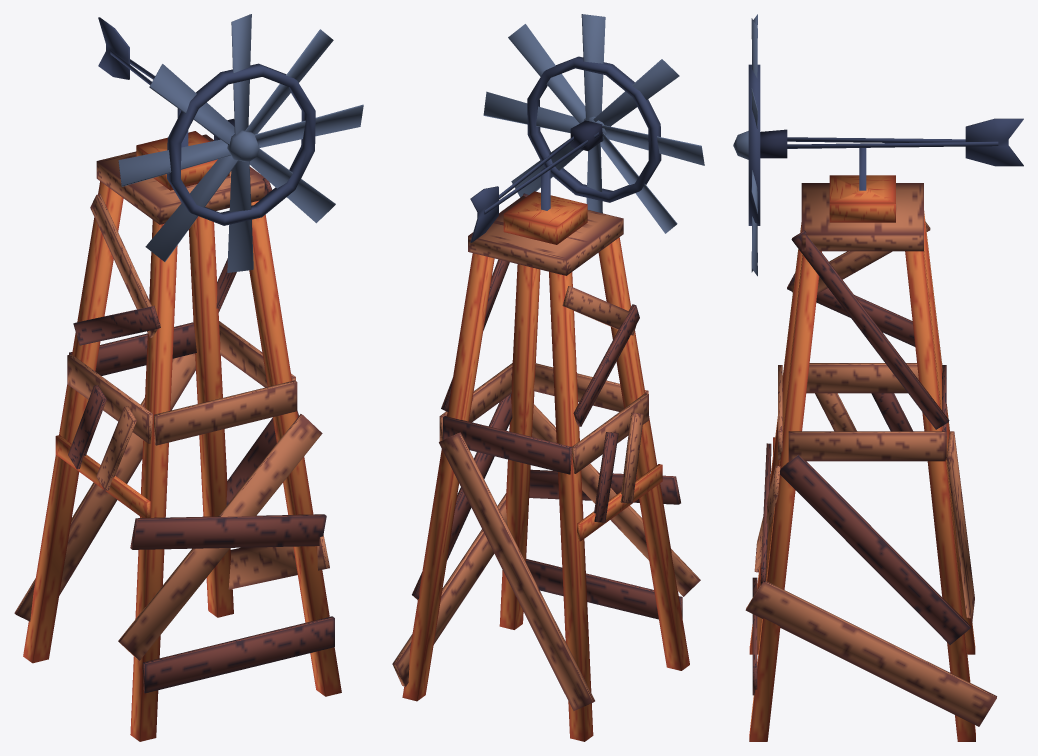
File: MoinhoPequeno.fbx
3 renders of one model, left to right at view 1: azimuth 30°, elevation 25°; view 2: azimuth 150°, elevation 25°; view 3: azimuth 270°, elevation 25°, orthographic. The views are drawn at different scales.
Visible parts, largest first — view 1: Moinho_Pequeno; view 2: Moinho_Pequeno; view 3: Moinho_Pequeno.
Boxes of the visible parts, x1,y1,x2,y2 form: Moinho_Pequeno: (14, 14, 363, 741); Moinho_Pequeno: (392, 14, 704, 741); Moinho_Pequeno: (733, 14, 1023, 741).
Size of the model in its own units: 474 by 511 by 1305.
